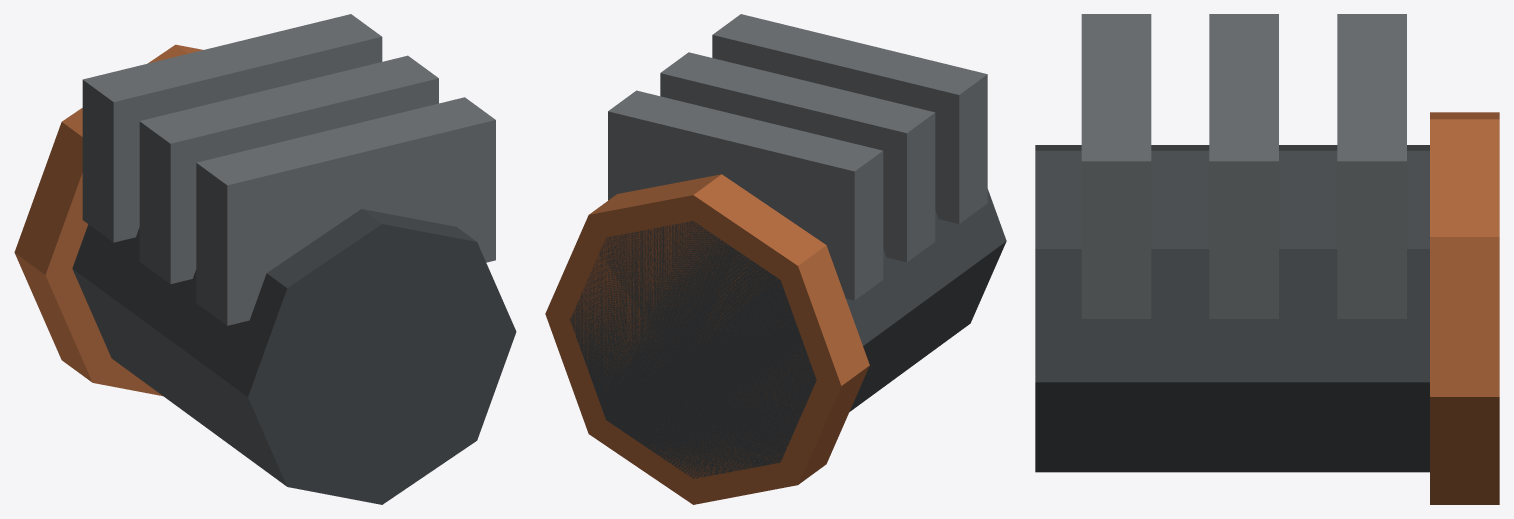
Rendered from mod_compensator.glb.
3 renders of one model, left to right at view 1: azimuth 30°, elevation 25°; view 2: azimuth 150°, elevation 25°; view 3: azimuth 270°, elevation 25°, orthographic. The views are drawn at different scales.
Visible parts, largest first — view 1: compensator; view 2: compensator; view 3: compensator.
Boxes of the visible parts, x1,y1,x2,y2 form: compensator: (14,14,516,504); compensator: (545,14,1006,504); compensator: (1035,14,1499,504).
Bounding box in the file's own units: 0.072 × 0.078 × 0.08.
